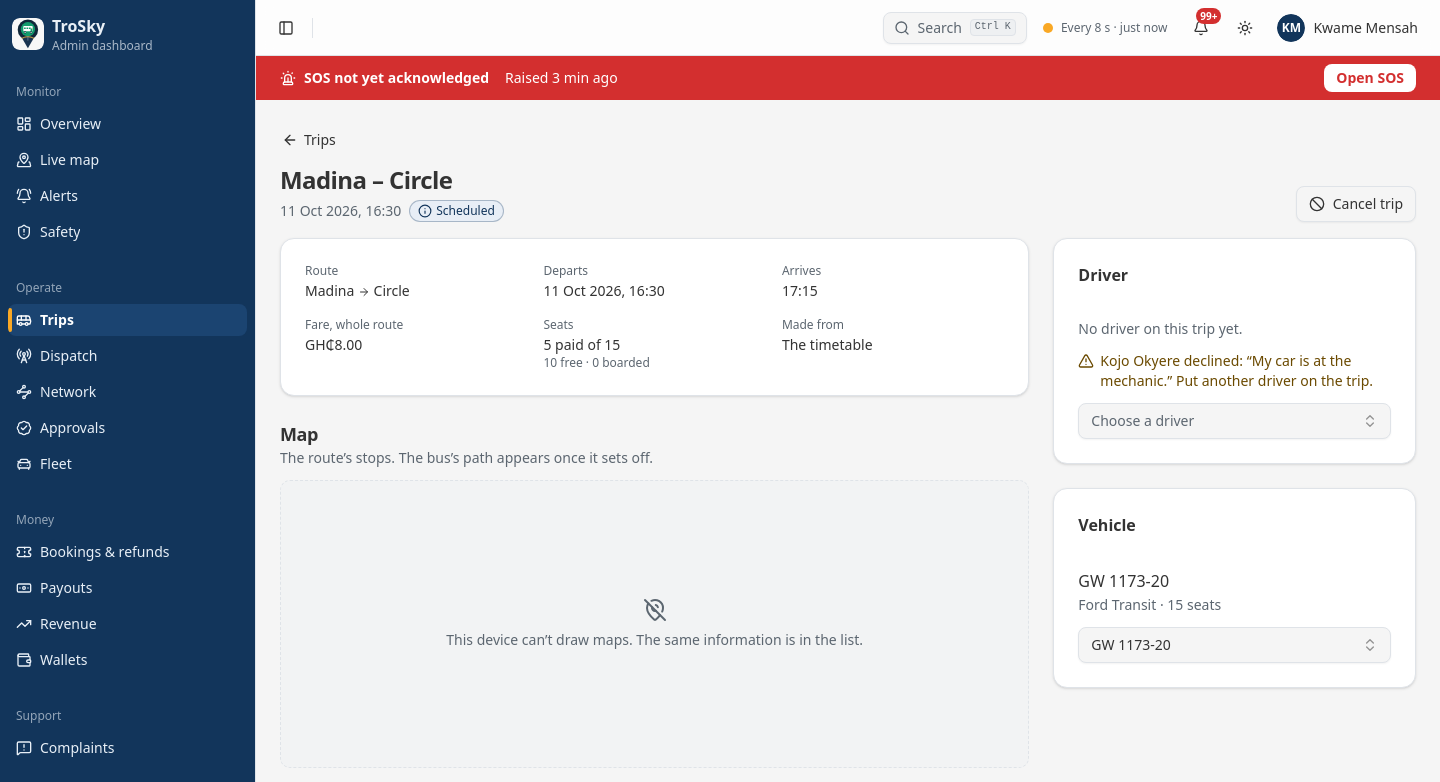
it: A trip › gets a driver, who is asked to accept; an admin can accept for them
Click the dropdown named "Choose the driver". click: (1143, 420)
box: [1078,403,1391,439]
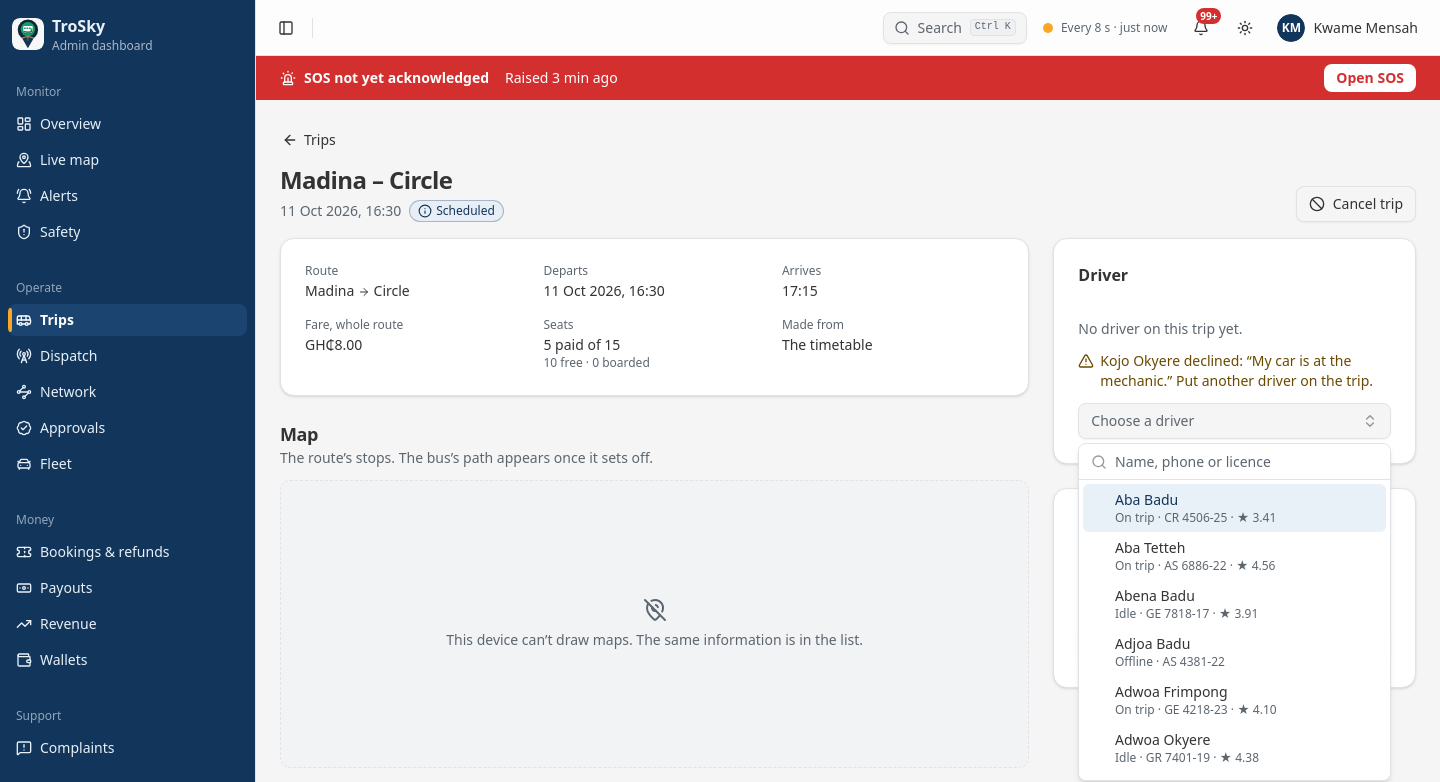
Click the option "Aba Badu On trip · CR 4506-25 · ★ 3.41". click: (1234, 508)
box: [1083,484,1386,532]
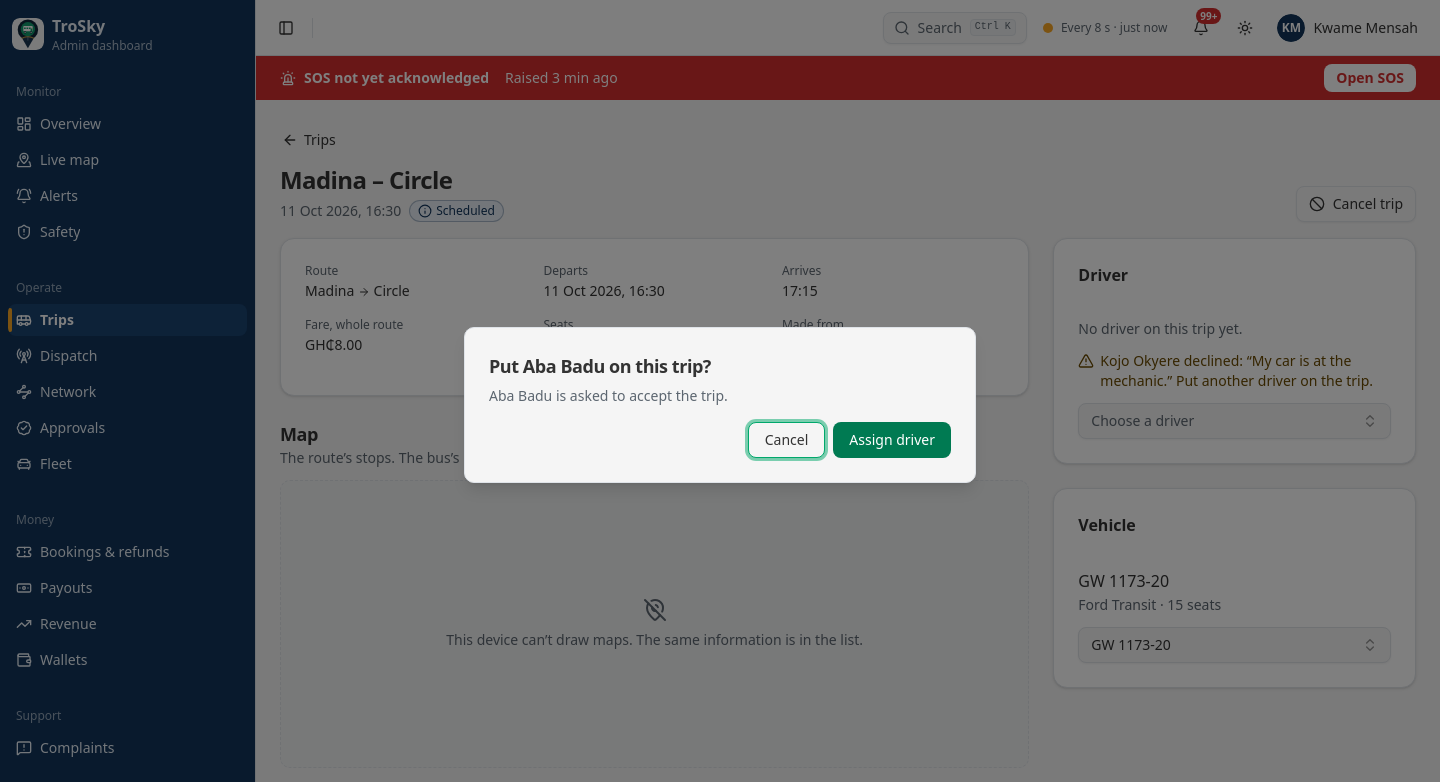
Expected: the text "Aba Badu is asked to accept the trip." is shown, [489,386,728,406]
Click the button "Assign driver". click: (892, 440)
box: [833,422,951,458]
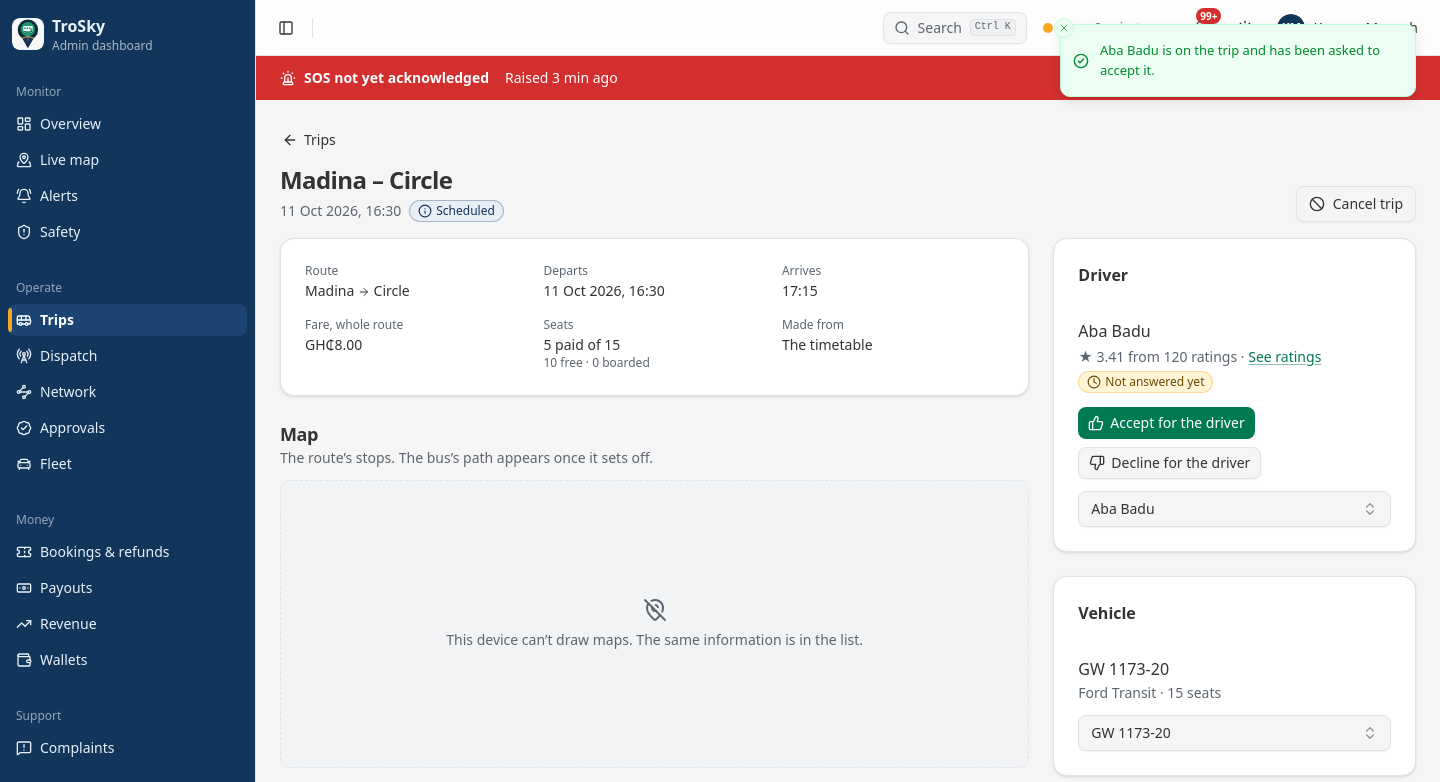
Expected: the text "Aba Badu is on the trip and has been asked to accept it." is shown, [1100,41,1399,80]
Expected: the text "Not answered yet" is shown, [1078,371,1213,393]
Click the button "Accept for the driver". click: (1166, 423)
box: [1078,407,1255,439]
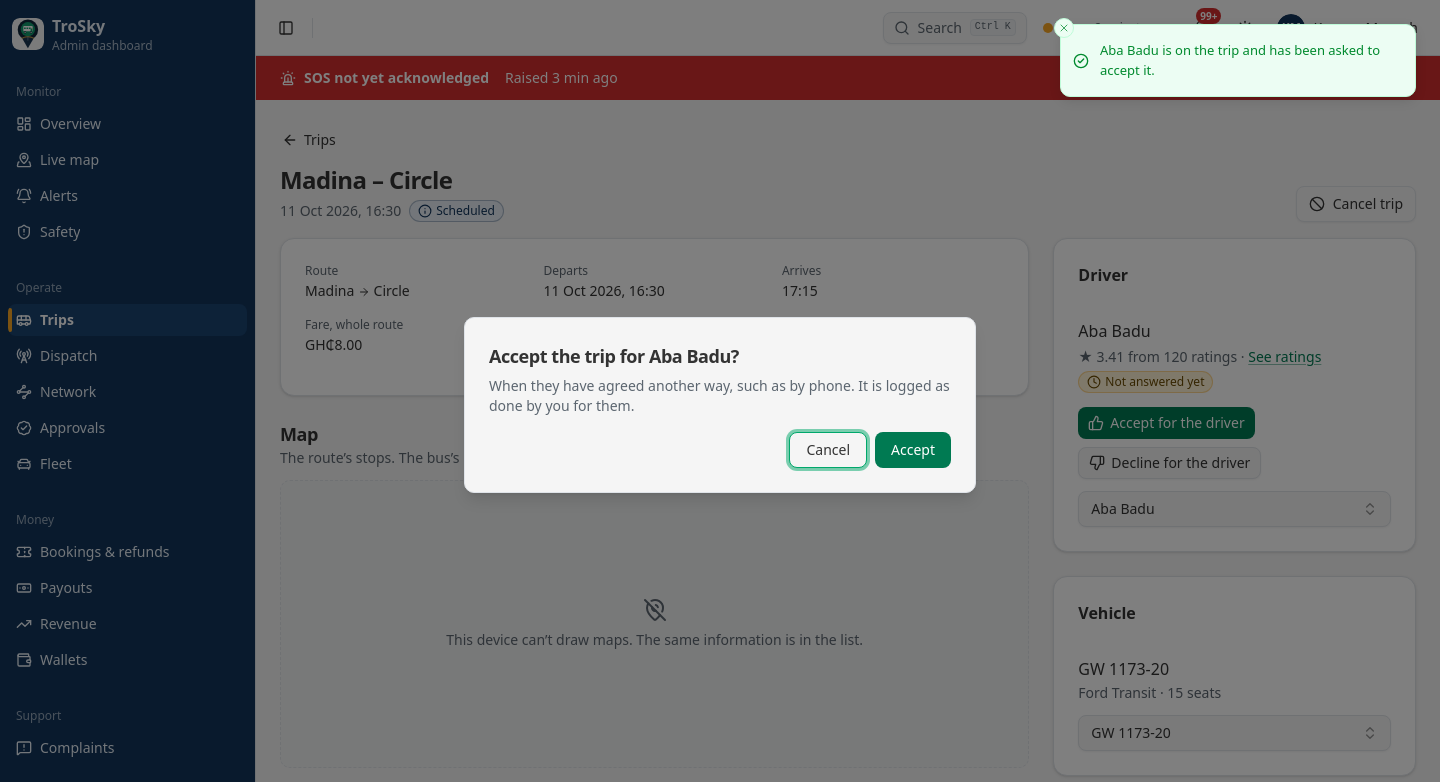
Click the button "Accept". click: (913, 450)
box: [875,432,951,468]
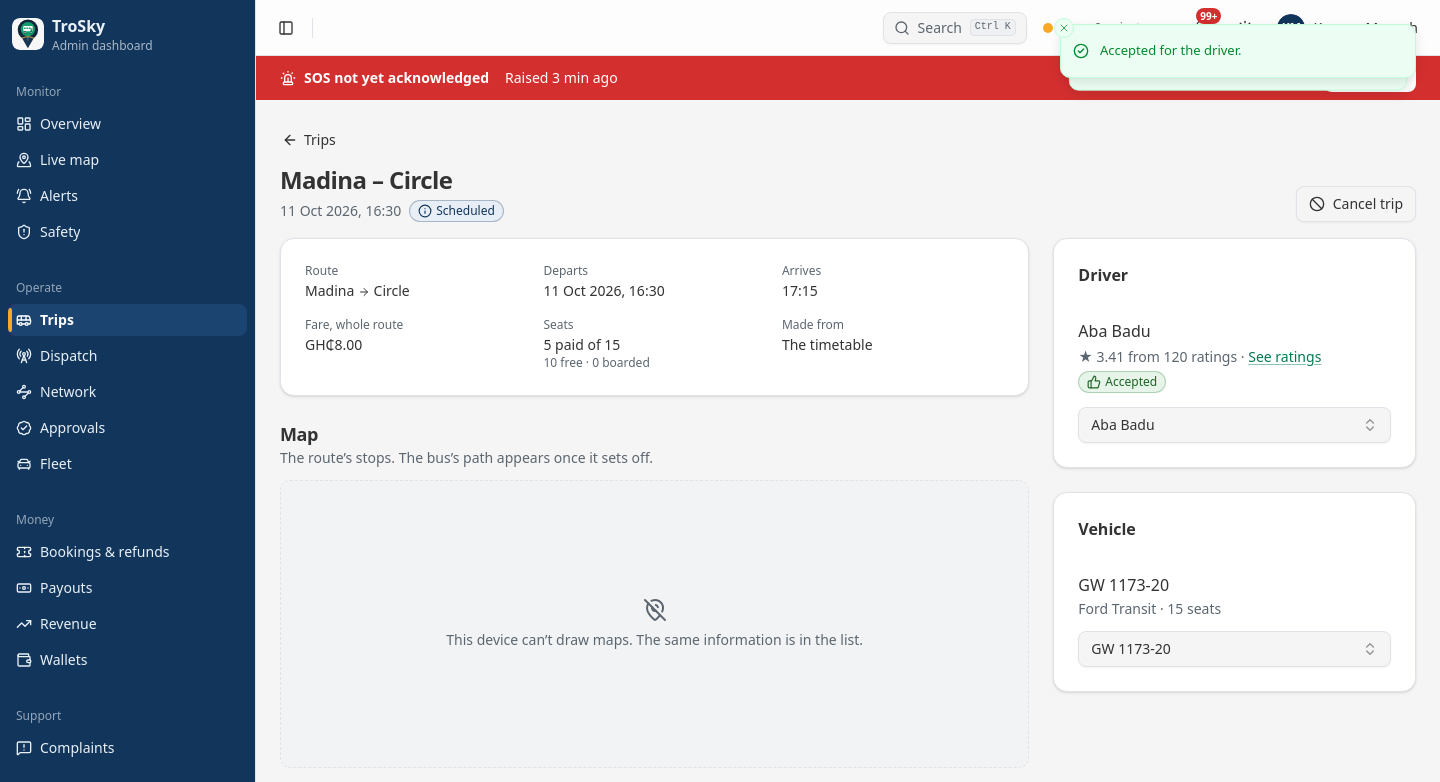
Expected: the text "Accepted for the driver." is shown, [1100,41,1242,60]
Expected: the text "Accepted" is shown, [1078,371,1166,393]
